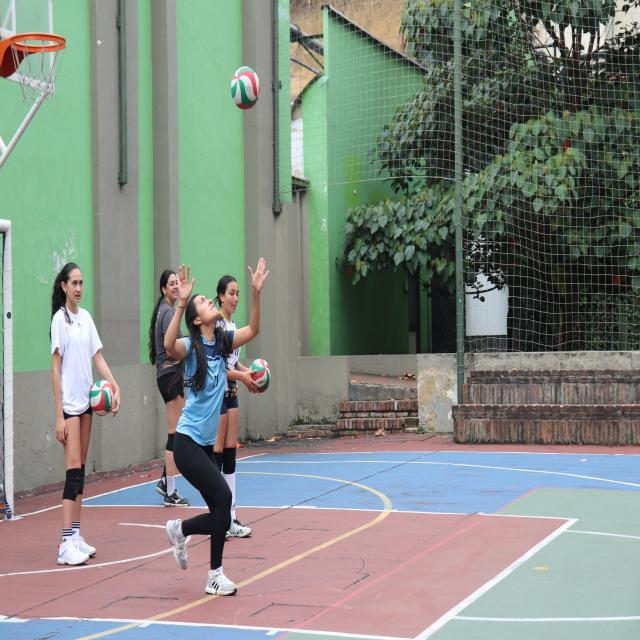volleyball: (231, 66, 260, 111), (90, 380, 114, 416), (248, 358, 271, 394)
